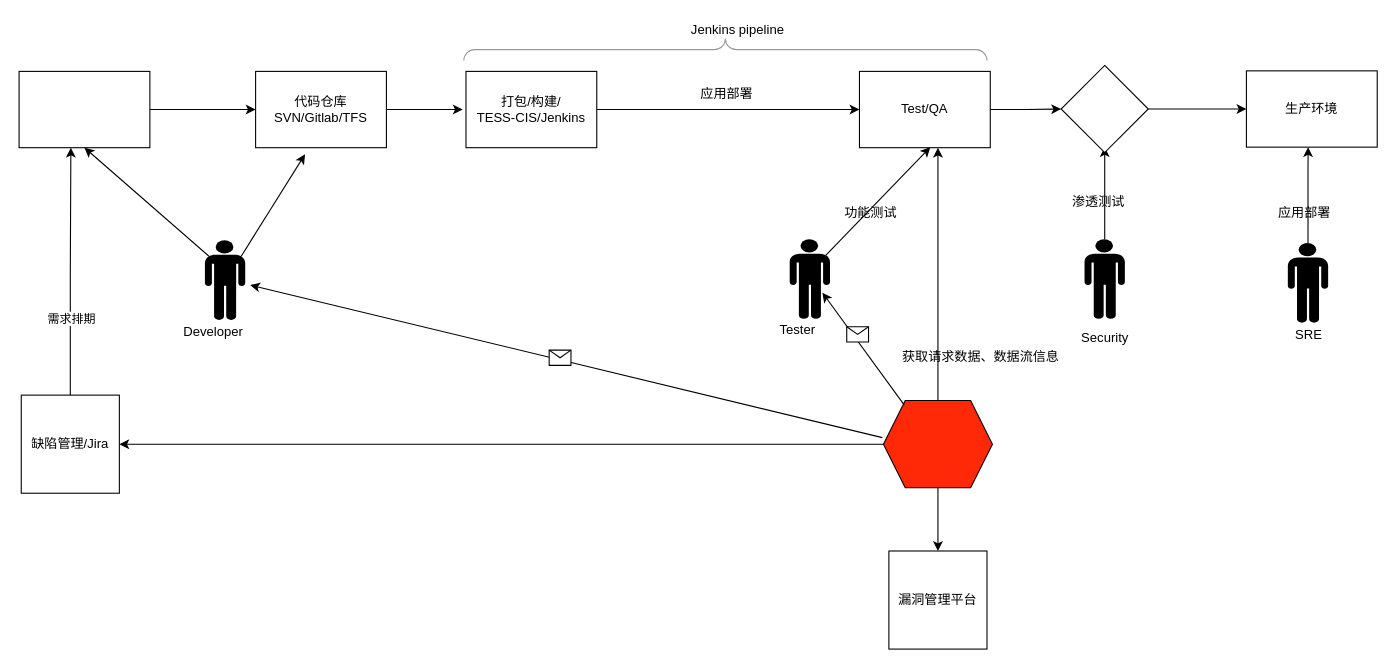
Some shapes in this 1396 by 668 pixel diagram are drawn without their labels. The centre of each missing label's shape, as x and y in pixels:
"IAST" belongs at (937,443).
"是否人工 评估" belongs at (1104,108).
"需求管理/Confluence" belongs at (84,109).
